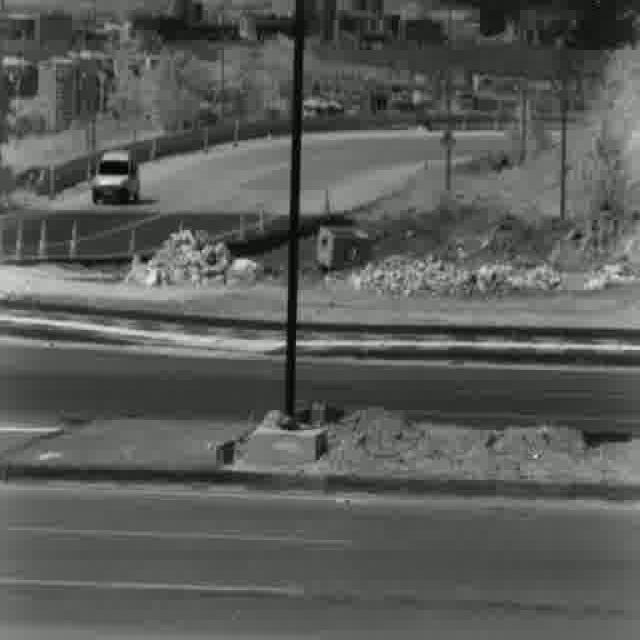Car: (92, 146, 139, 204)
